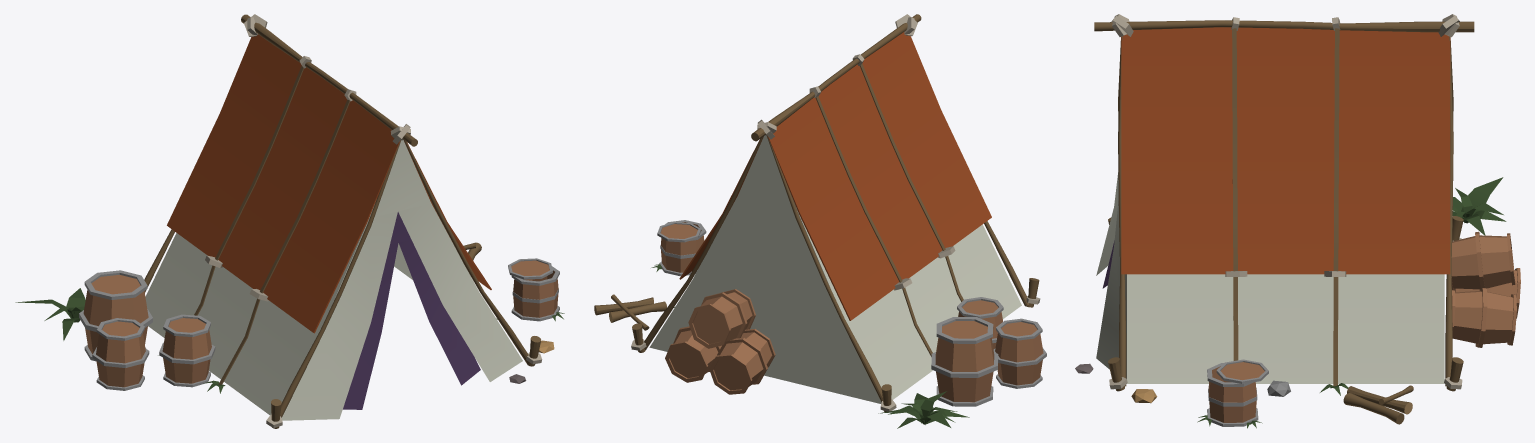
Rendered from tent.glb.
The picture shows the model from 3 angles, left to right: view 1: azimuth 30°, elevation 25°; view 2: azimuth 150°, elevation 25°; view 3: azimuth 270°, elevation 25°; orthographic projection. The views are drawn at different scales.
Parts seen in each view (by area): view 1: tent 1; view 2: tent 1; view 3: tent 1.
Boxes of the visible parts, box(x1,y1,x2,y2) form: tent 1: box(15, 14, 564, 428); tent 1: box(594, 14, 1046, 428); tent 1: box(1075, 14, 1520, 428).
Size of the model in its own units: 3.5 by 2.12 by 2.81.
